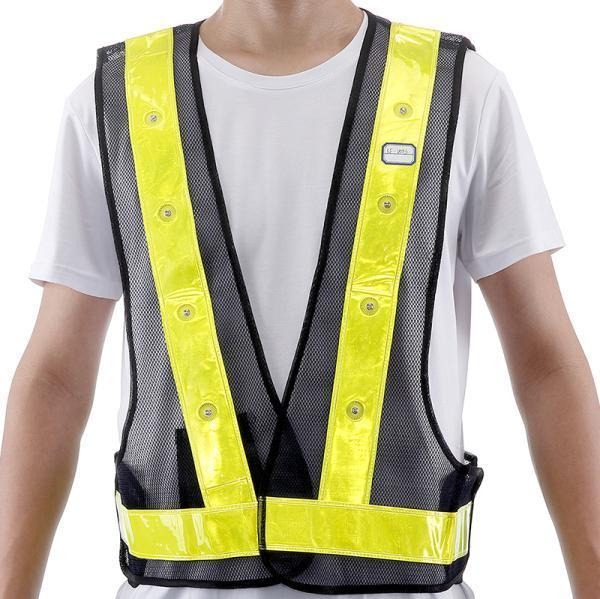Vest: (101, 24, 475, 573)
